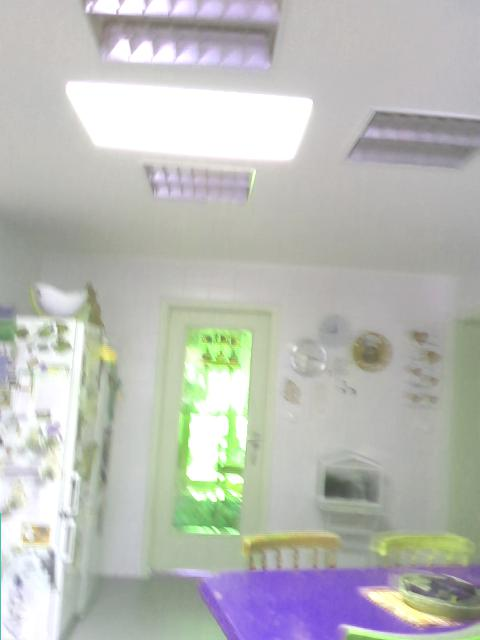closed_door: (142, 299, 280, 593)
